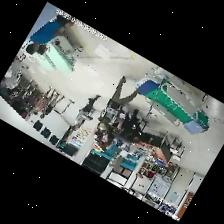person: (99, 76, 137, 129), (26, 14, 69, 53), (72, 94, 100, 129), (114, 108, 140, 142), (40, 92, 63, 117), (33, 86, 54, 113), (37, 37, 55, 53), (106, 123, 116, 145), (94, 125, 105, 138)
